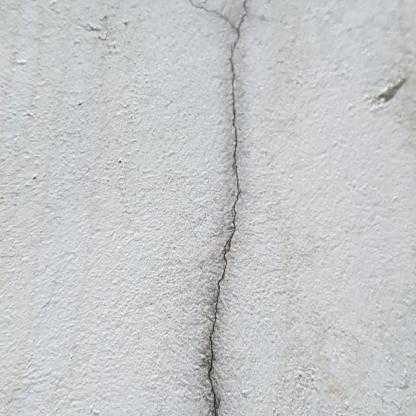crack: (193, 4, 248, 412)
